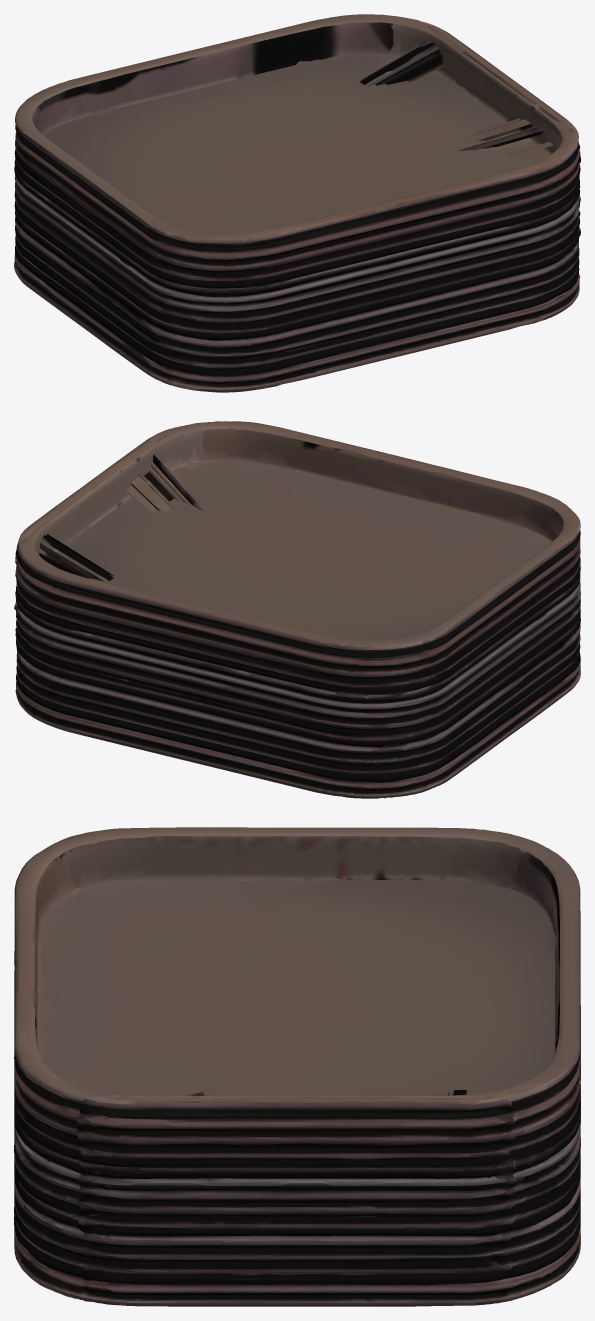
Rendered from eeb3dd3d-bc9b-4c0a-866c-68a387d2529f_textured_mesh.glb.
3 views of the same model, one above another, from view 1: azimuth 30°, elevation 25°; view 2: azimuth 150°, elevation 25°; view 3: azimuth 270°, elevation 25° (orthographic). The views are drawn at different scales.
Visible parts, largest first — view 1: tmpd4fi1tl7.ply; view 2: tmpd4fi1tl7.ply; view 3: tmpd4fi1tl7.ply.
Boxes of the visible parts, <box> form: tmpd4fi1tl7.ply: <box>14,14,580,392</box>; tmpd4fi1tl7.ply: <box>14,421,580,798</box>; tmpd4fi1tl7.ply: <box>14,827,580,1306</box>.
Bounding box in the file's own units: 1.96 × 0.6814 × 1.7.
Materials: 1 (1 with a texture image).
